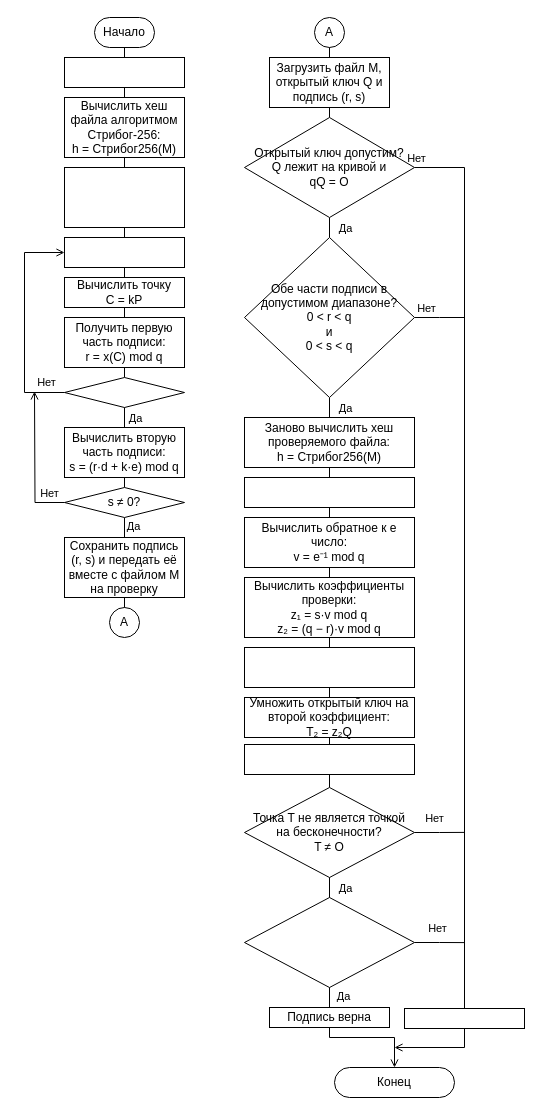
Some shapes in this 542 by 1115 pixel diagram are drawn without their labels. Each missing label, with the box of its shape:
r ≠ 0?: (64, 376, 184, 408)
Выбрать случайное число k: 1 ≤ k < q: (64, 236, 184, 268)
Загрузить файл M и закрытый ключ d: (64, 56, 184, 88)
Подпись неверна: (404, 1008, 524, 1028)
Получить число e из хеша: e = int(h) mod q: (244, 476, 414, 508)
Преобразовать хеш в число для подписи: e = int(h) mod q: (64, 166, 184, 228)
Сложить полученные точки: T = T₁ + T₂: (244, 744, 414, 774)
Совпала проверочная координата? x(T) mod q = r: (244, 896, 414, 988)
Умножить базовую точку на первый коэффициент: T₁ = z₁P: (244, 646, 414, 688)
